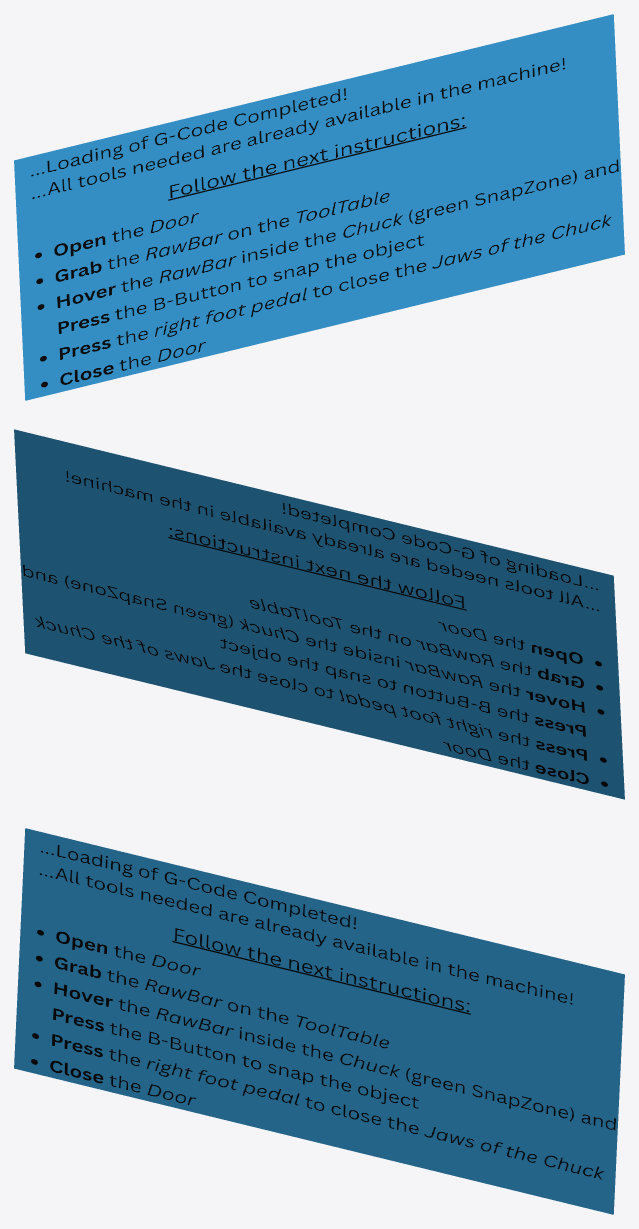
The model's file is ScreenHMI_Task.glb.
3 renders of one model, top to bottom at view 1: azimuth 30°, elevation 25°; view 2: azimuth 150°, elevation 25°; view 3: azimuth 330°, elevation 25°, orthographic.
Visible parts, largest first — view 1: ScreenHMI_Task; view 2: ScreenHMI_Task; view 3: ScreenHMI_Task.
Boxes of the visible parts, bbox=[...] form: ScreenHMI_Task: bbox=[14, 14, 624, 400]; ScreenHMI_Task: bbox=[14, 429, 624, 799]; ScreenHMI_Task: bbox=[14, 828, 624, 1214].
Size of the model in its own units: 0.266 by 0.0984 by 0.00861.
Materials: 1 (1 with a texture image).
